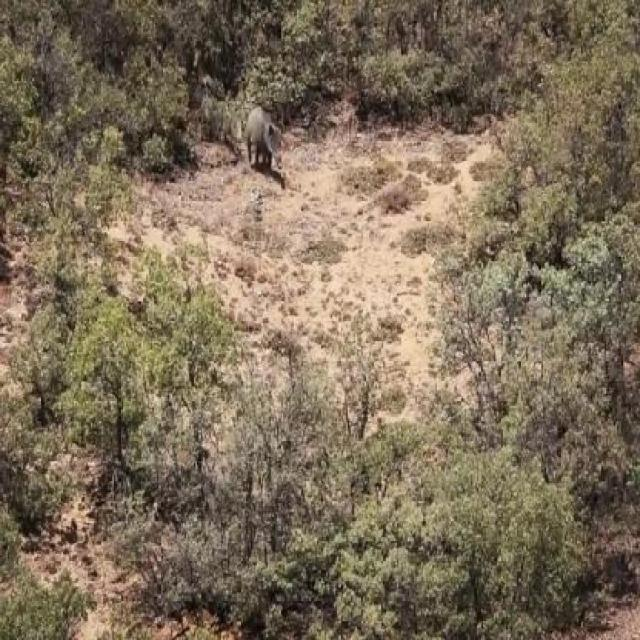pig: (236, 108, 288, 176)
